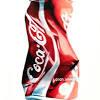can: (21, 1, 82, 100)
